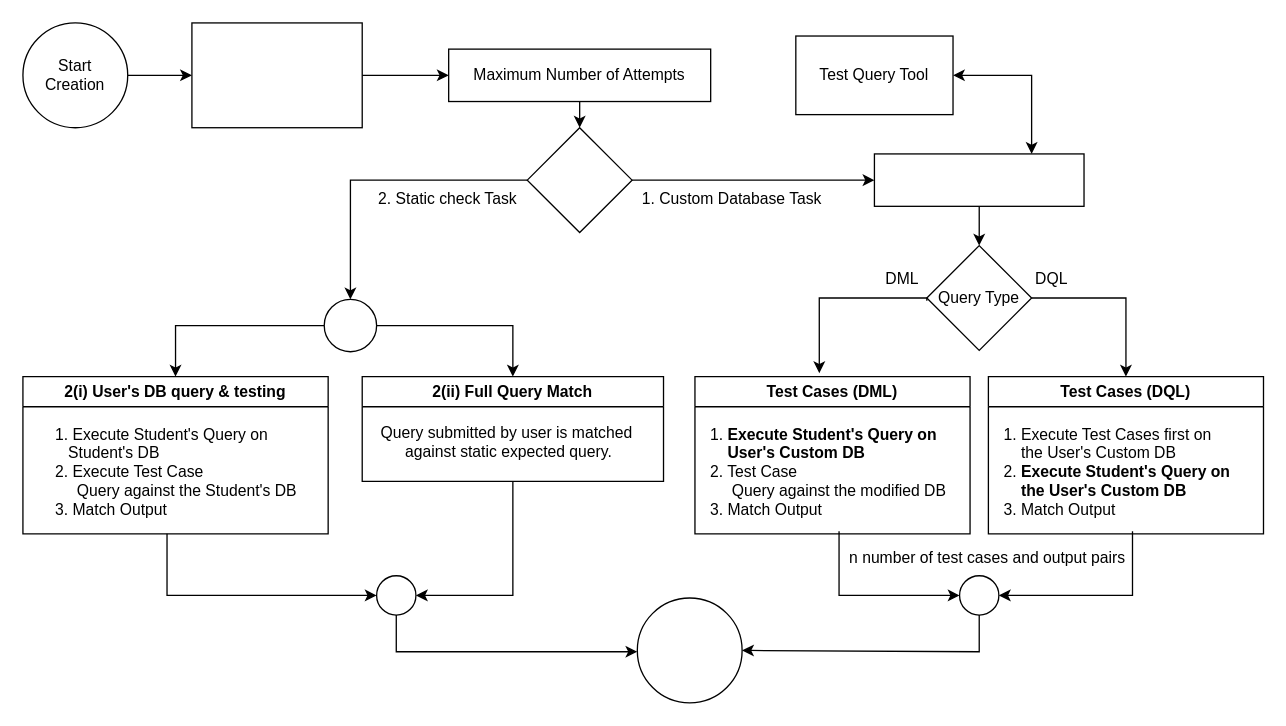
This 1286x726 diagram has some shape labels left out. Each missing label, with the centre of its shape:
"Create Task" goes at point (689, 650).
"Evaluation" goes at point (579, 179).
"Select Custom Database" goes at point (978, 179).
"Title Description Static Feedback Private Note" goes at point (276, 75).
